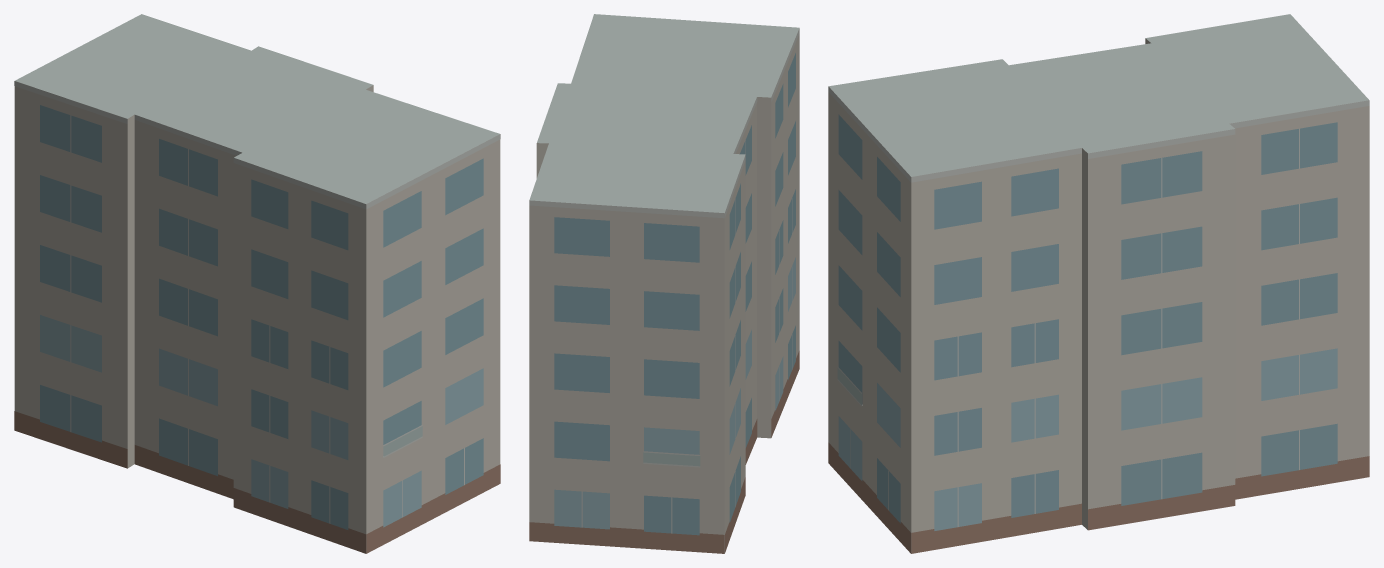
The model's file is survey-upis-32853630.glb.
The picture shows the model from 3 angles, left to right: view 1: azimuth 30°, elevation 25°; view 2: azimuth 150°, elevation 25°; view 3: azimuth 270°, elevation 25°; orthographic projection. The views are drawn at different scales.
Visible parts, largest first — view 1: survey-upis-32853630.tmp; view 2: survey-upis-32853630.tmp; view 3: survey-upis-32853630.tmp.
Boxes of the visible parts, x1,y1,x2,y2 form: survey-upis-32853630.tmp: [14, 14, 500, 553]; survey-upis-32853630.tmp: [529, 14, 799, 553]; survey-upis-32853630.tmp: [828, 14, 1369, 553].
Bounding box in the file's own units: 15.13 × 16.3 × 21.22.
